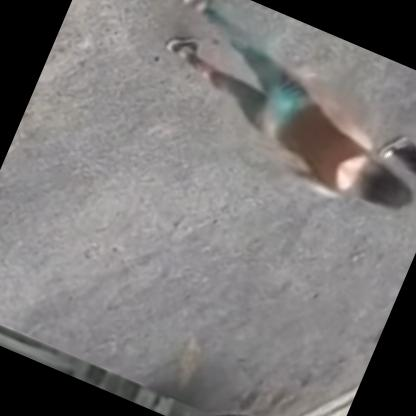Human Body: (130, 0, 415, 230)
